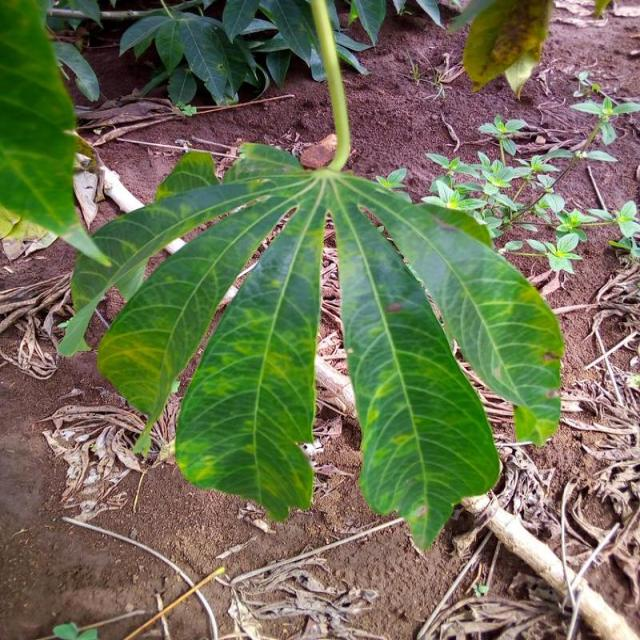cassava leaf: (62, 138, 565, 549), (328, 170, 502, 552), (174, 184, 326, 522), (0, 0, 110, 266)
